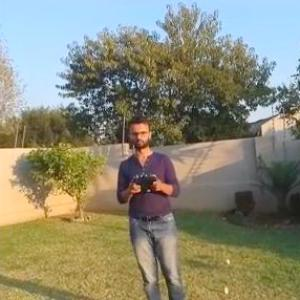follow: (112, 109, 191, 299)
